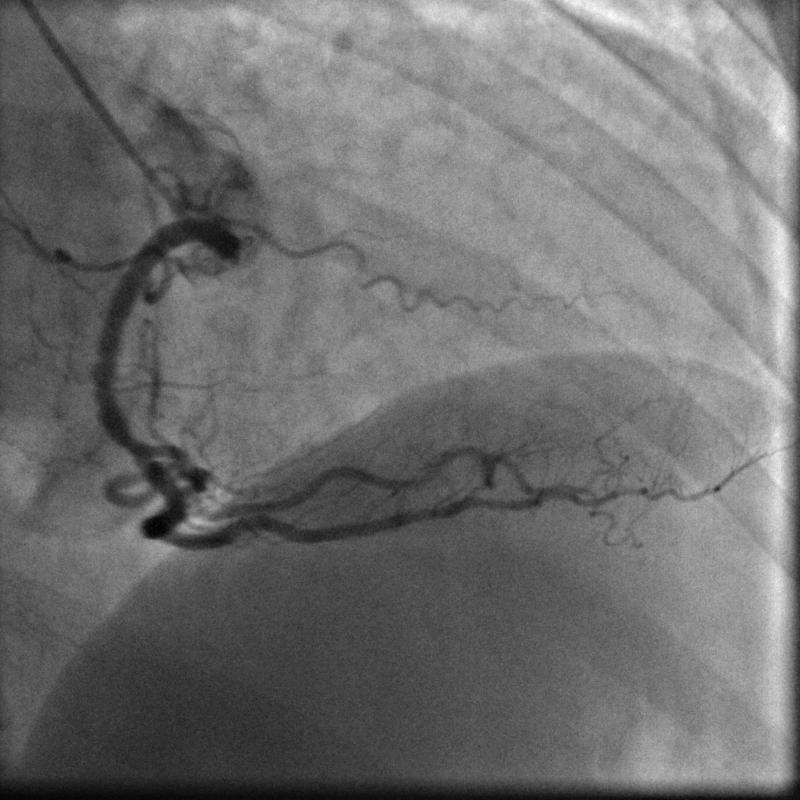Stenosis: (109, 431, 164, 466)
